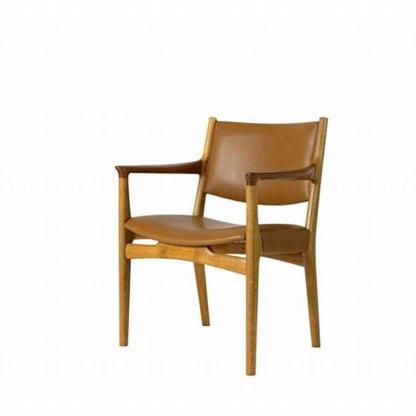Chair: (115, 114, 331, 375)
